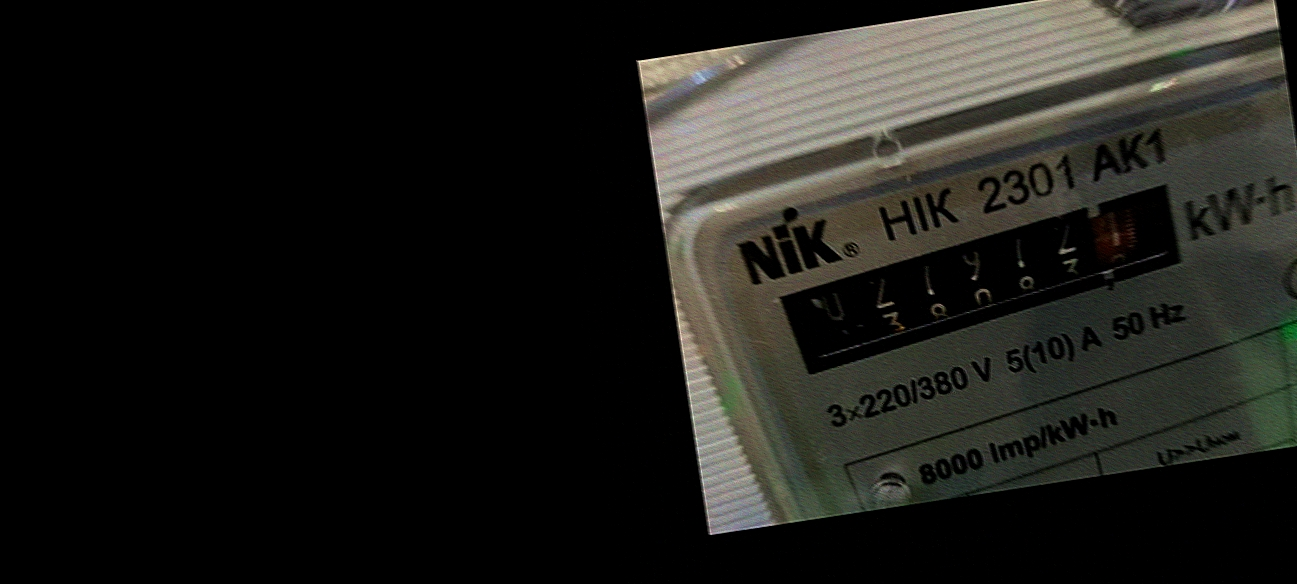0: (817, 283, 850, 323)
1: (1101, 203, 1129, 249)
2: (864, 267, 899, 309), (1048, 215, 1082, 255)
7: (1003, 227, 1035, 271), (913, 257, 941, 297)
9: (959, 243, 990, 281)
screen: (755, 167, 1225, 387)
